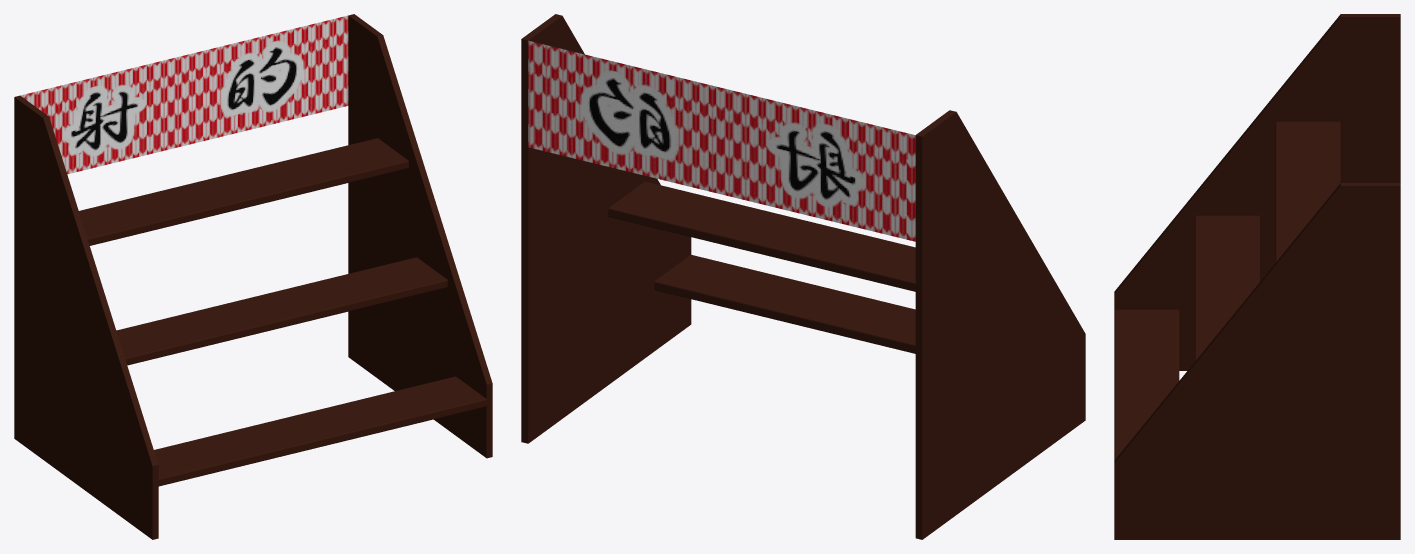
File: Syatekidai_1.fbx
3 views of the same model, side by side, from view 1: azimuth 30°, elevation 25°; view 2: azimuth 150°, elevation 25°; view 3: azimuth 270°, elevation 25° (orthographic). The views are drawn at different scales.
Visible parts, largest first — view 1: Syatekidai; view 2: Syatekidai; view 3: Syatekidai.
Part boxes in pixels (x1,y1,x2,y2): Syatekidai: [14, 14, 492, 539]; Syatekidai: [521, 14, 1085, 539]; Syatekidai: [1114, 14, 1400, 539].
Bounding box in the file's own units: 231 × 222 × 163.
Materials: 2 (1 with a texture image).
